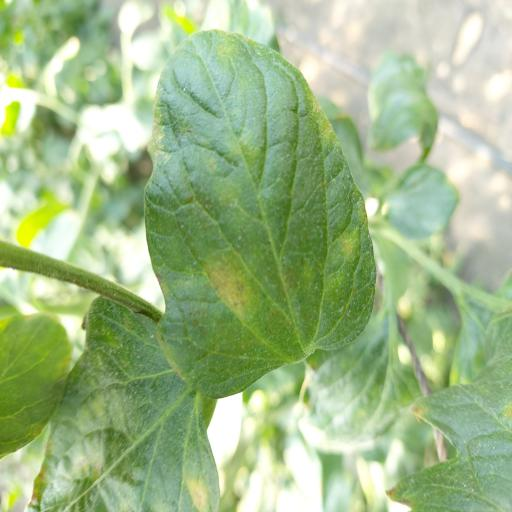disease_tomato: (143, 27, 378, 398), (23, 295, 221, 512)
